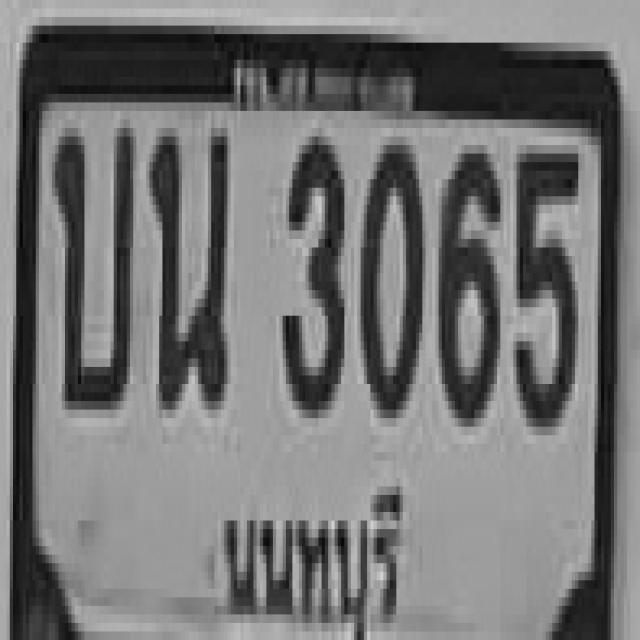0: (357, 136, 419, 410)
3: (280, 128, 341, 410)
34NorNu: (150, 124, 224, 405)
35BorBaiMai: (52, 120, 130, 401)
5: (513, 145, 575, 418)
6: (435, 145, 497, 418)
Nonthaburi: (217, 461, 407, 636)
